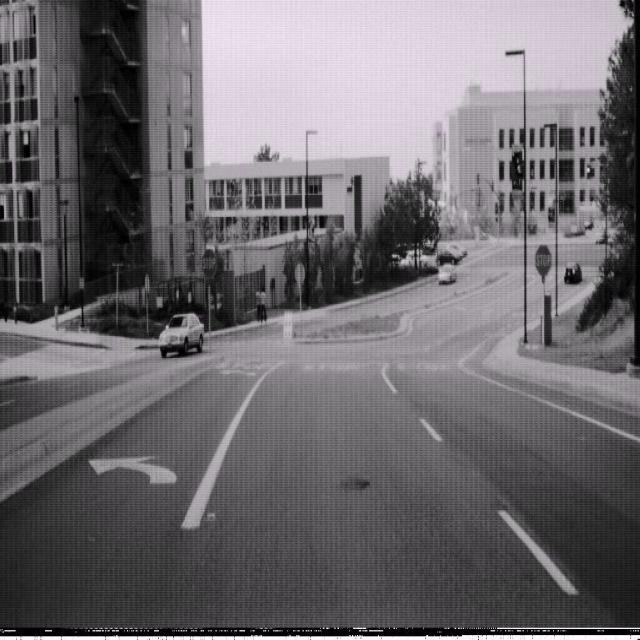stop: (535, 243, 552, 277), (201, 246, 217, 281)
